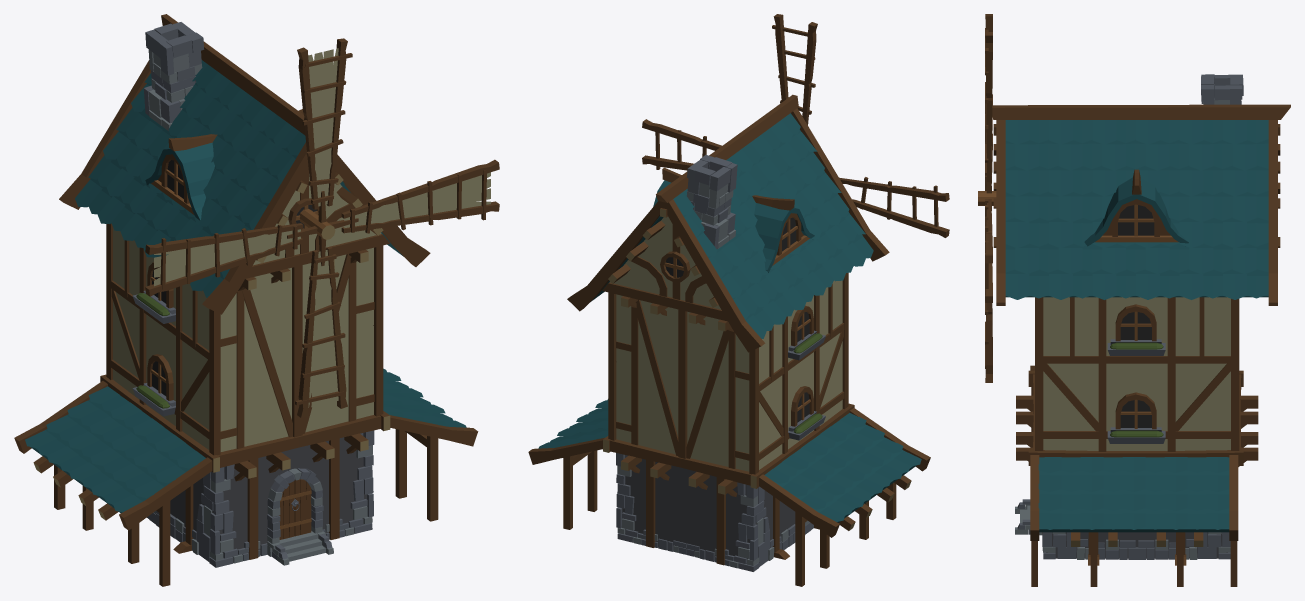
The model's file is windmill.glb.
The picture shows the model from 3 angles, left to right: view 1: azimuth 30°, elevation 25°; view 2: azimuth 150°, elevation 25°; view 3: azimuth 270°, elevation 25°; orthographic projection. The views are drawn at different scales.
Visible parts, largest first — view 1: Mill; view 2: Mill; view 3: Mill.
Boxes of the visible parts, box(x1,y1,x2,y2) form: Mill: box(14, 14, 499, 586); Mill: box(528, 14, 949, 586); Mill: box(978, 14, 1290, 586).
Size of the model in its own units: 3.4 by 4.8 by 2.73.
